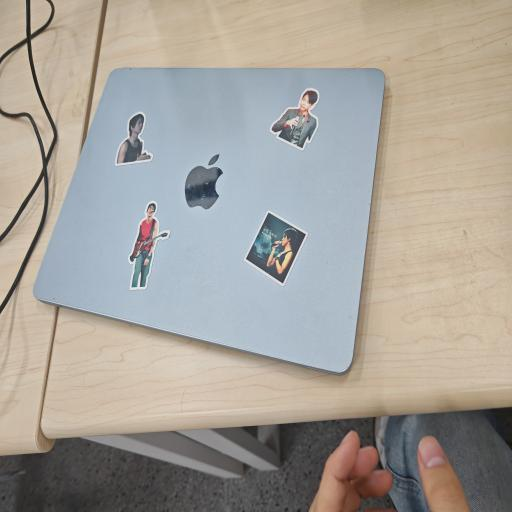laptop: (34, 68, 384, 374)
